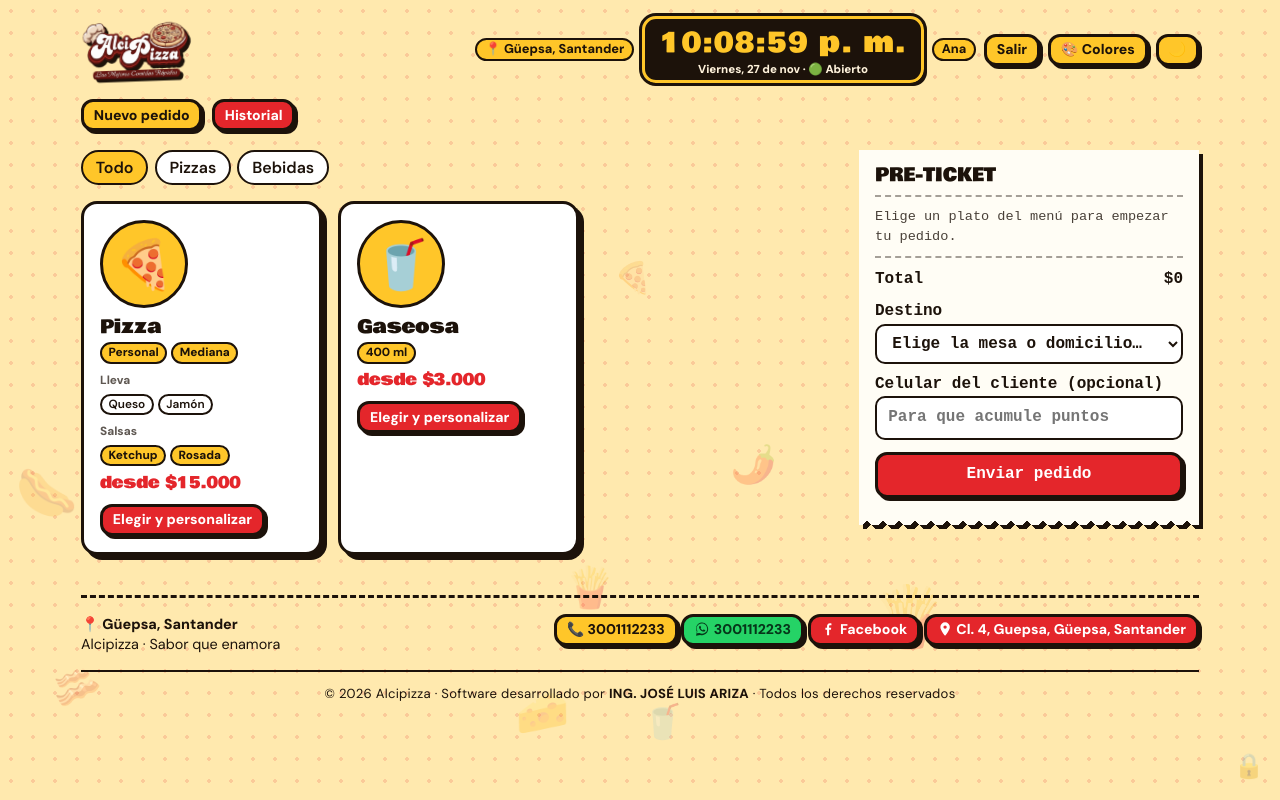
MeseraPage · nuevo pedido › muestra el error del servidor al enviar (p. ej. local cerrado)
Click the button "Elegir y personalizar" below "$15.000" at x=182, y=520, box 100,504 -> 265,536
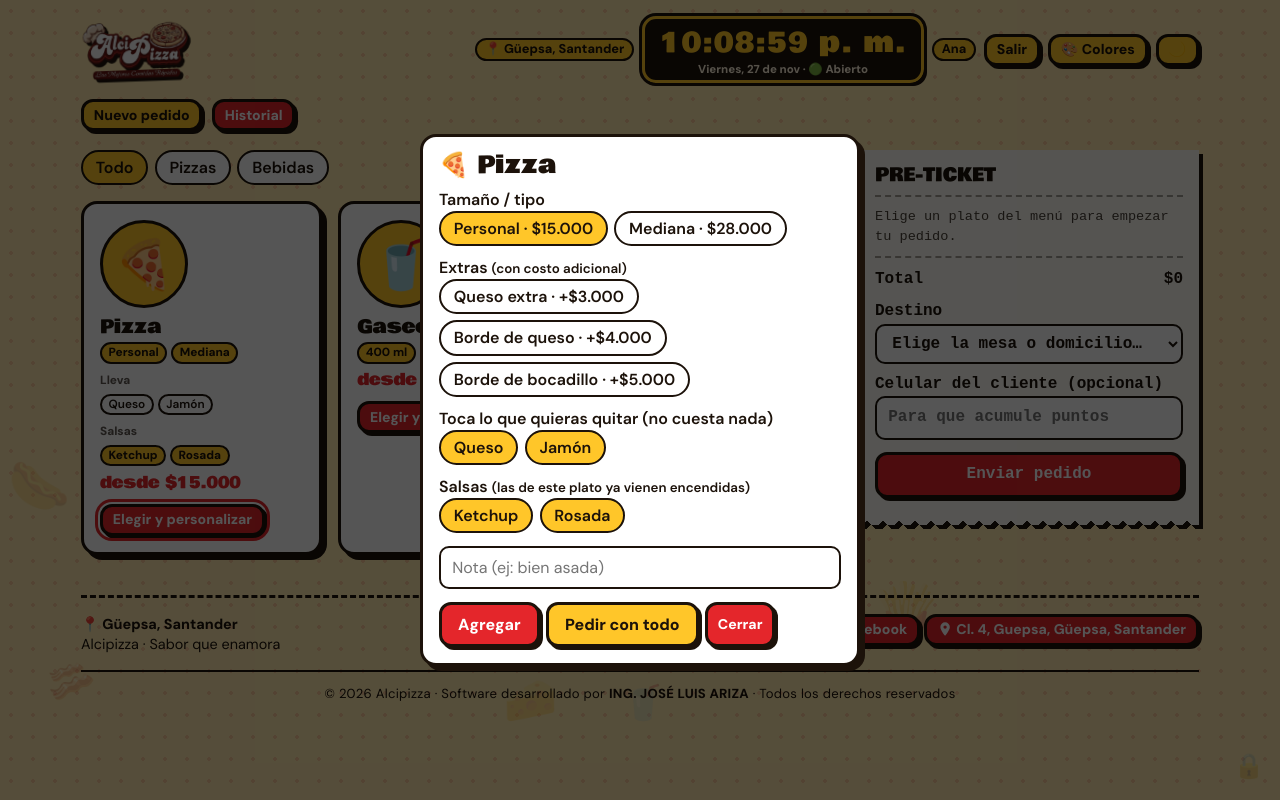
Click the button "Agregar" at x=489, y=624, box 439,602 -> 540,647
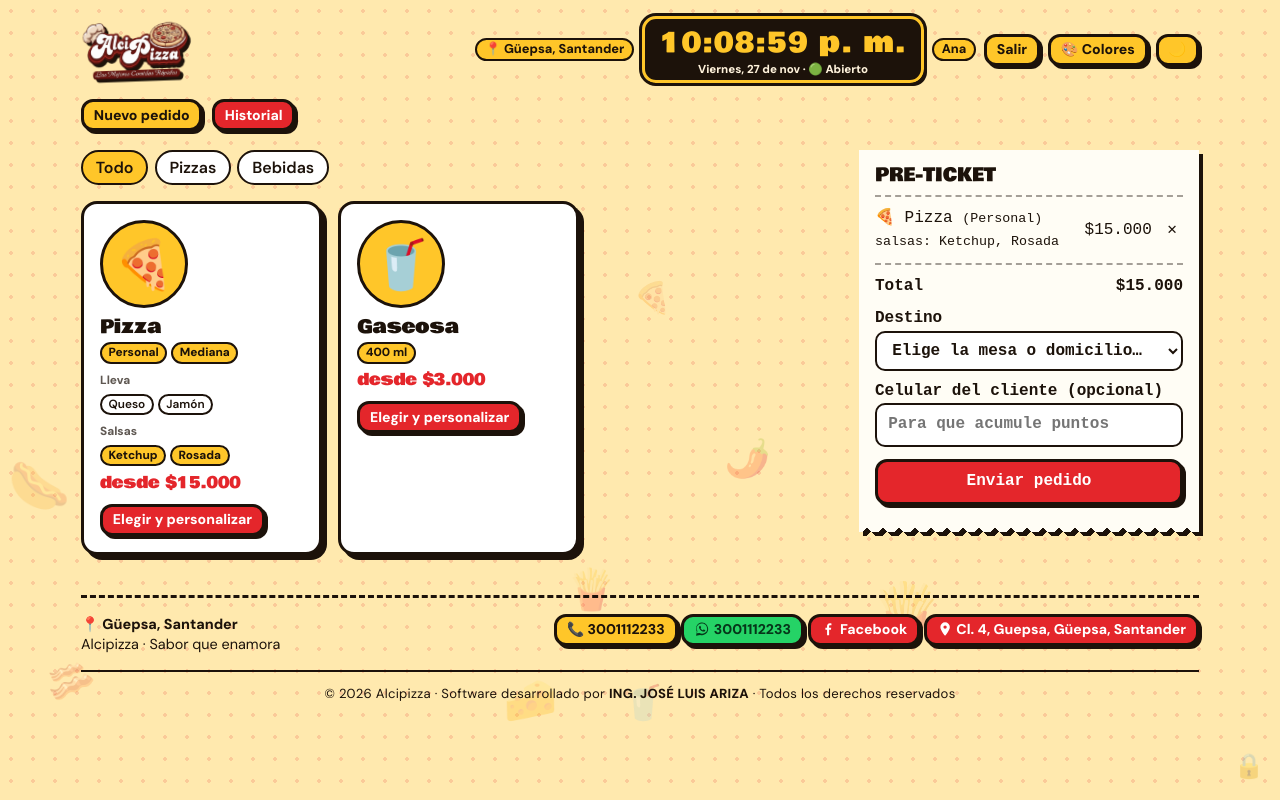
Select "Mesa 1" in the dropdown labelled "Destino" at x=1029, y=351, box 875,331 -> 1183,371
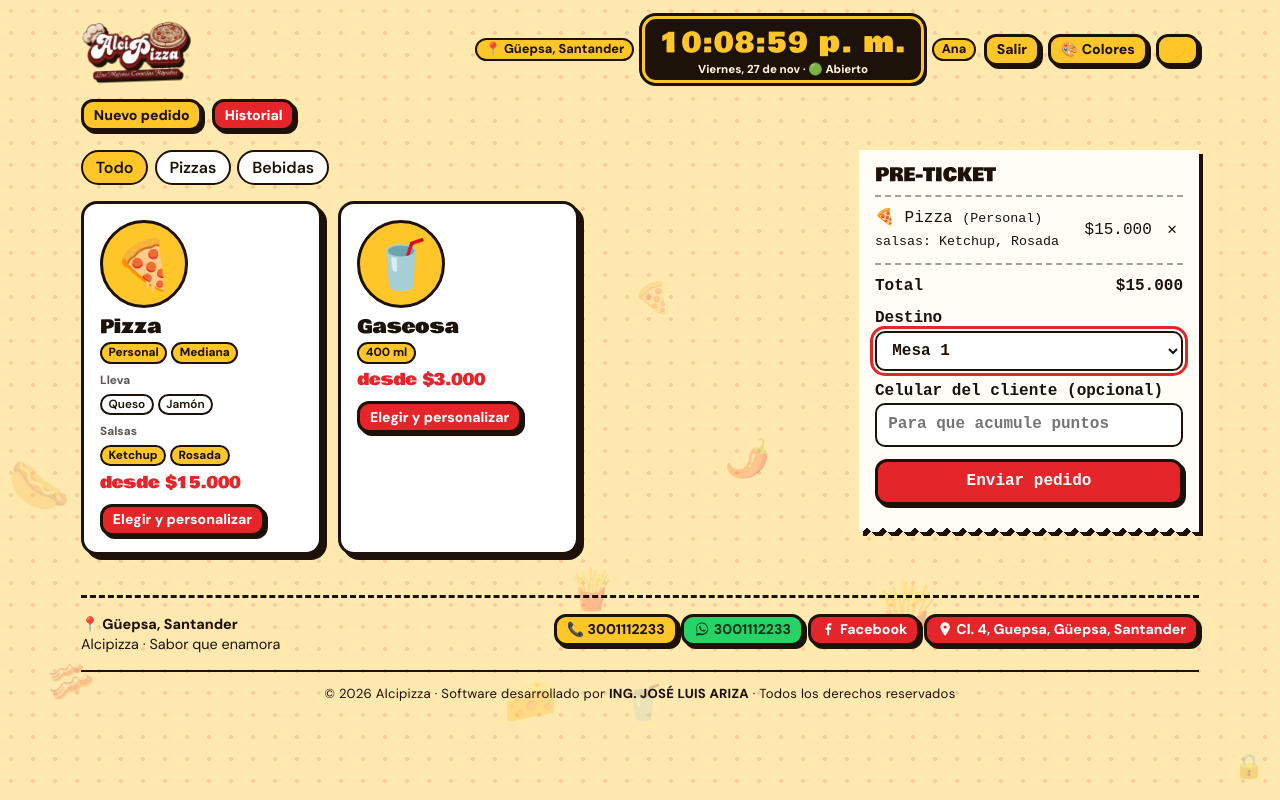
Click the button "Enviar pedido" at x=1029, y=482, box 875,459 -> 1183,505
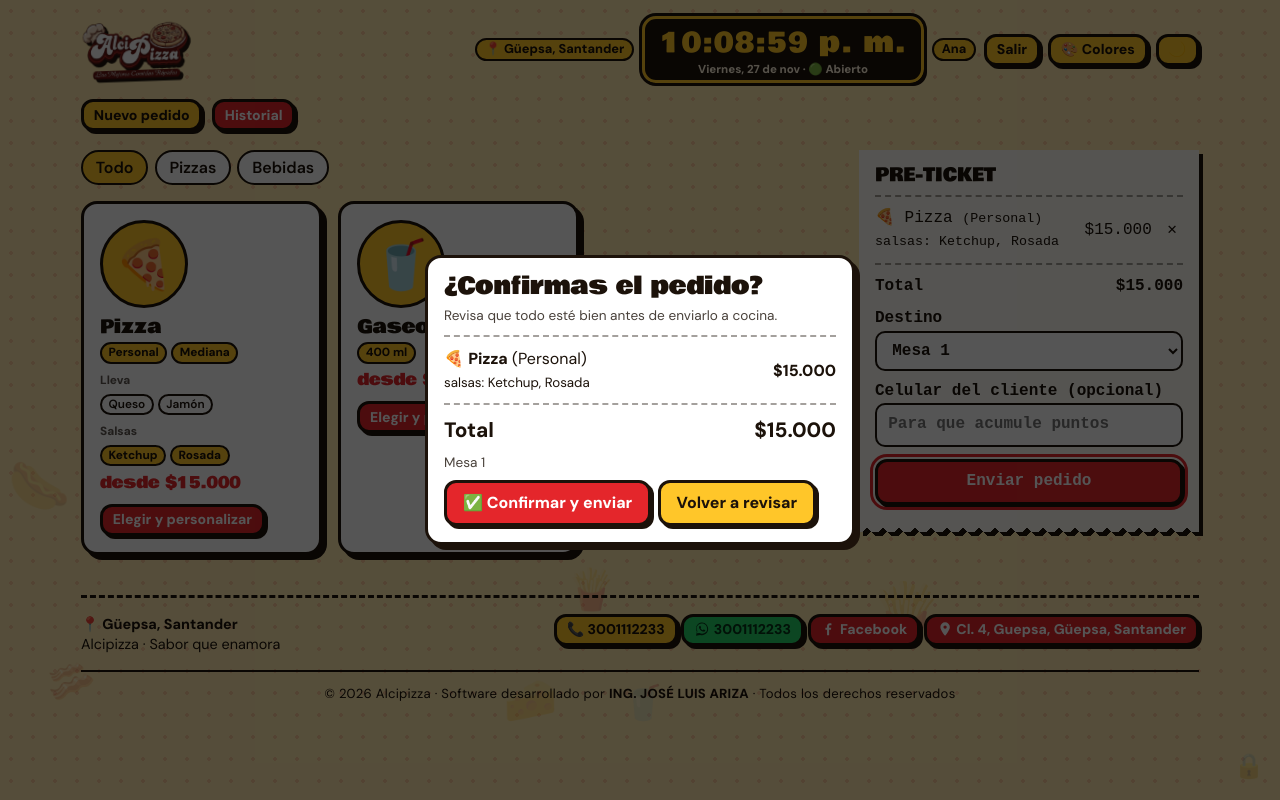
Click the button "✅ Confirmar y enviar" at x=548, y=503, box 444,480 -> 651,526
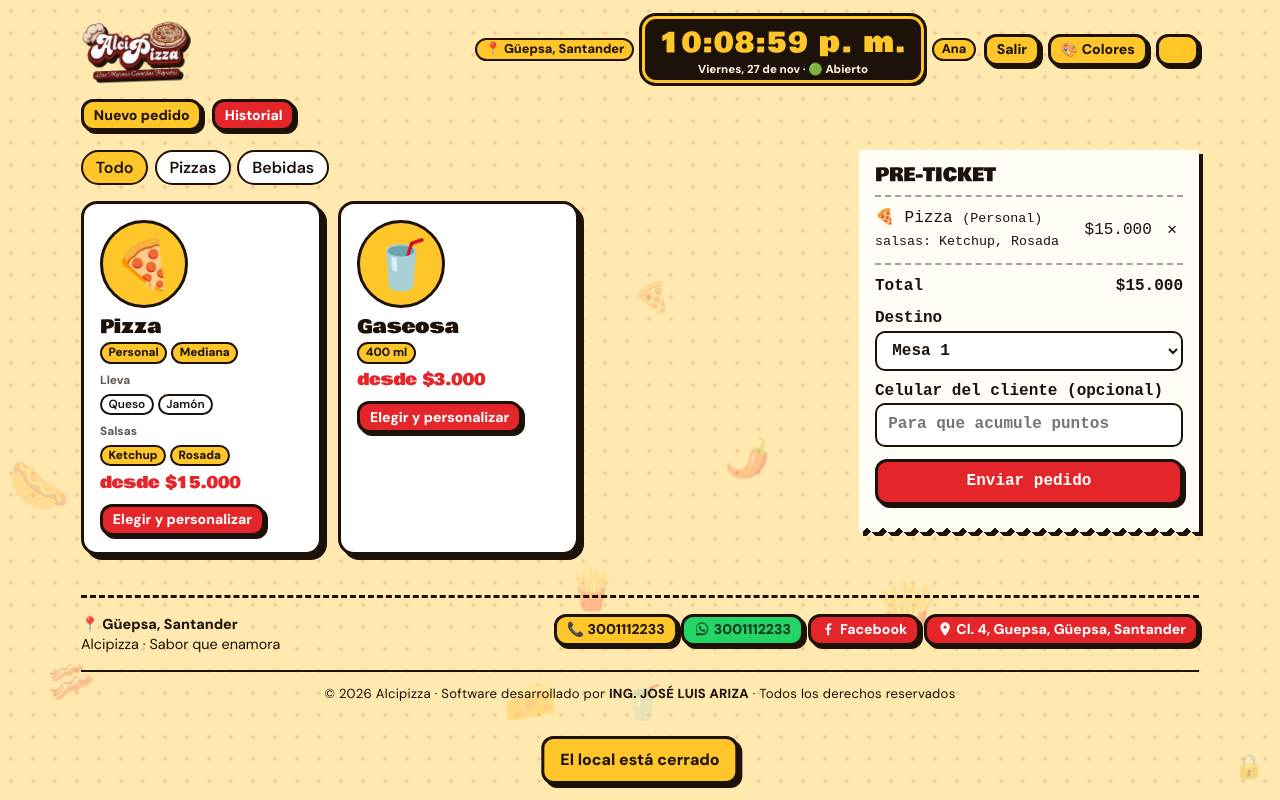
Check: the text "(Personal)" is shown, box 962,211 -> 1042,226
Check: the message reads "El local está cerrado", box 560,749 -> 720,770
